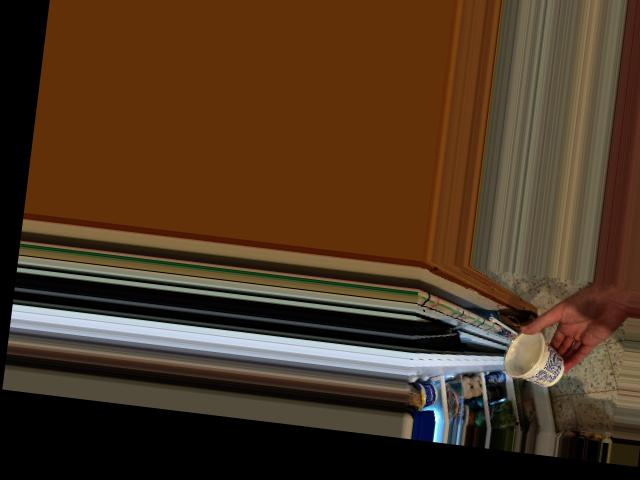cotage: (502, 331, 570, 384)
